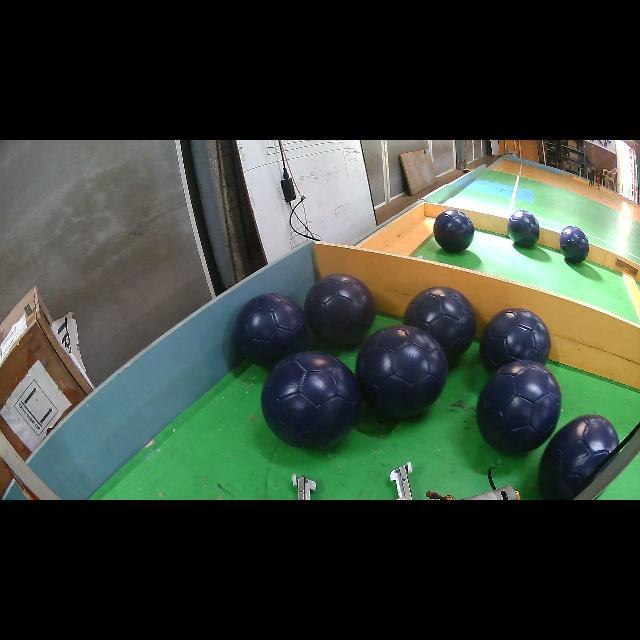B: (261, 351, 361, 449), (356, 325, 448, 418), (476, 360, 561, 452), (539, 415, 619, 500), (404, 286, 476, 362), (236, 292, 309, 365), (305, 274, 376, 346), (480, 309, 551, 374), (434, 210, 475, 253), (508, 210, 540, 248), (559, 226, 589, 264)
